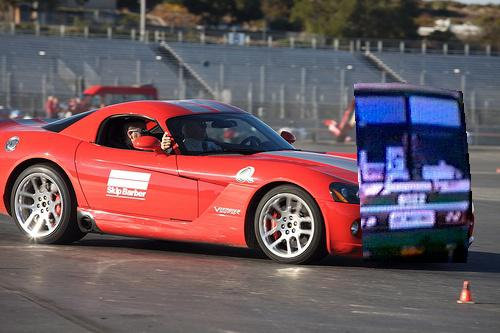tampered: (355, 83, 472, 263)
